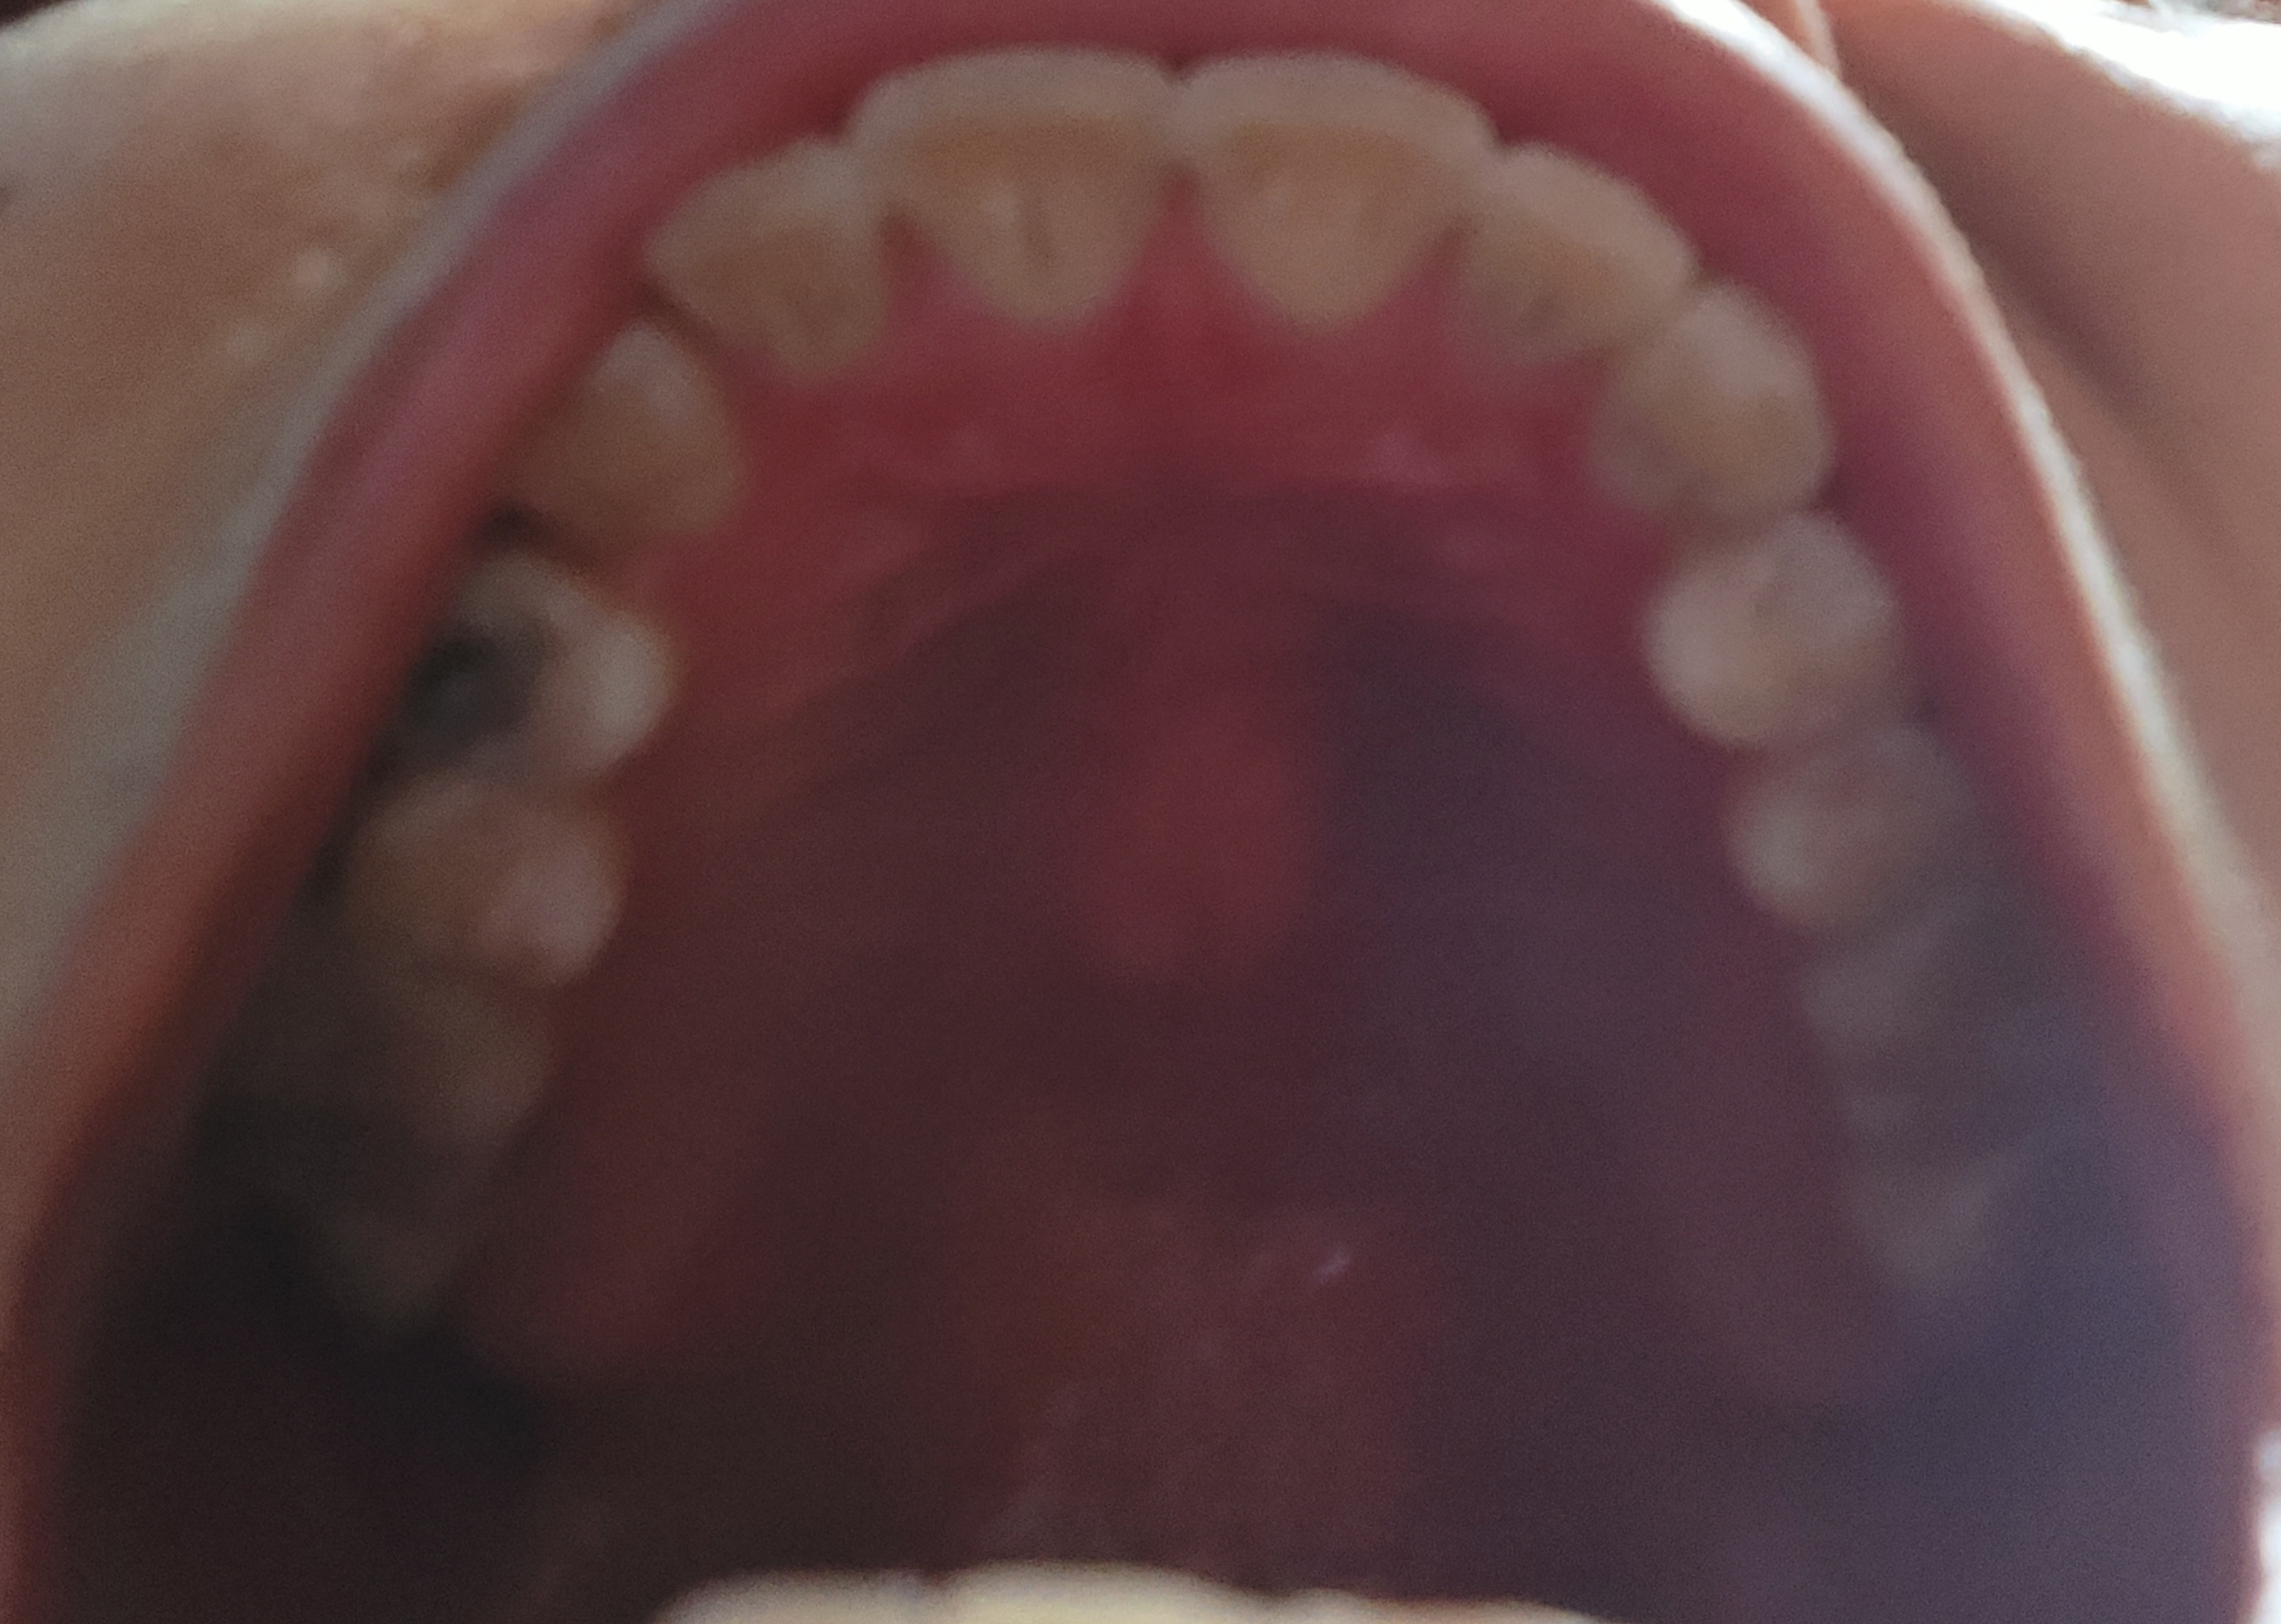teeth: (849, 47, 1158, 323), (1174, 47, 1483, 316), (650, 130, 893, 364)
